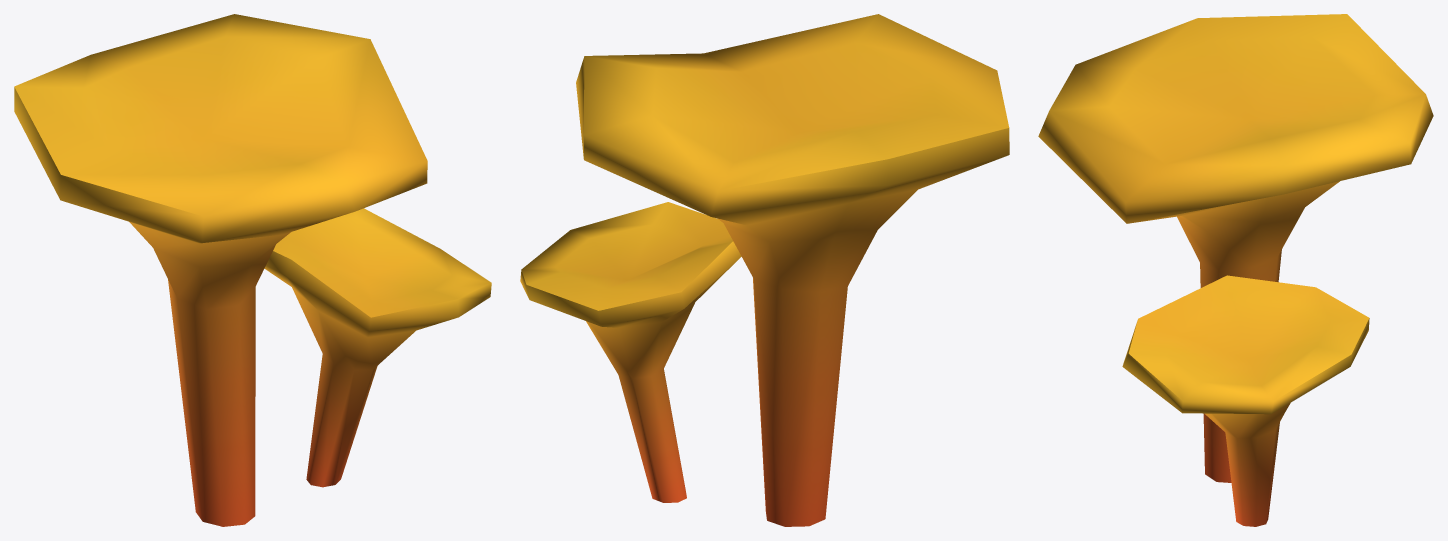
File: mushroom_cibarius_2.glb
3 renders of one model, left to right at view 1: azimuth 30°, elevation 25°; view 2: azimuth 150°, elevation 25°; view 3: azimuth 270°, elevation 25°, orthographic. The views are drawn at different scales.
Parts seen in each view (by area): view 1: mushroom_cibarius_2; view 2: mushroom_cibarius_2; view 3: mushroom_cibarius_2.
Boxes of the visible parts, <box> form: mushroom_cibarius_2: <box>14,14,491,526</box>; mushroom_cibarius_2: <box>520,14,1009,526</box>; mushroom_cibarius_2: <box>1038,14,1433,526</box>.
Size of the model in its own units: 0.3769 by 0.357 by 0.3277.
Materials: 1 (1 with a texture image).
